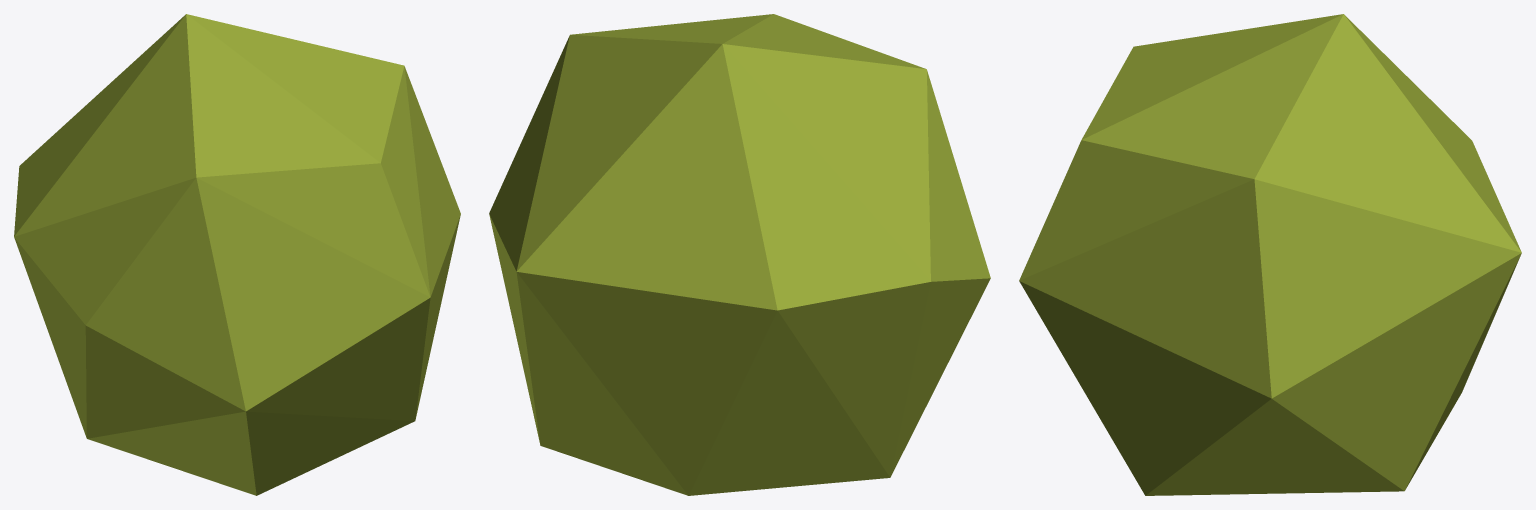
Rendered from shrub02.fbx.
3 views of the same model, side by side, from view 1: azimuth 30°, elevation 25°; view 2: azimuth 150°, elevation 25°; view 3: azimuth 270°, elevation 25° (orthographic). The views are drawn at different scales.
Parts seen in each view (by area): view 1: shrub_02; view 2: shrub_02; view 3: shrub_02.
Part boxes in pixels (x1=…): shrub_02: x1=14, y1=14, x2=460, y2=495; shrub_02: x1=489, y1=14, x2=990, y2=495; shrub_02: x1=1019, y1=14, x2=1521, y2=495.
Bounding box in the file's own units: 1.5 × 1.43 × 1.48.
